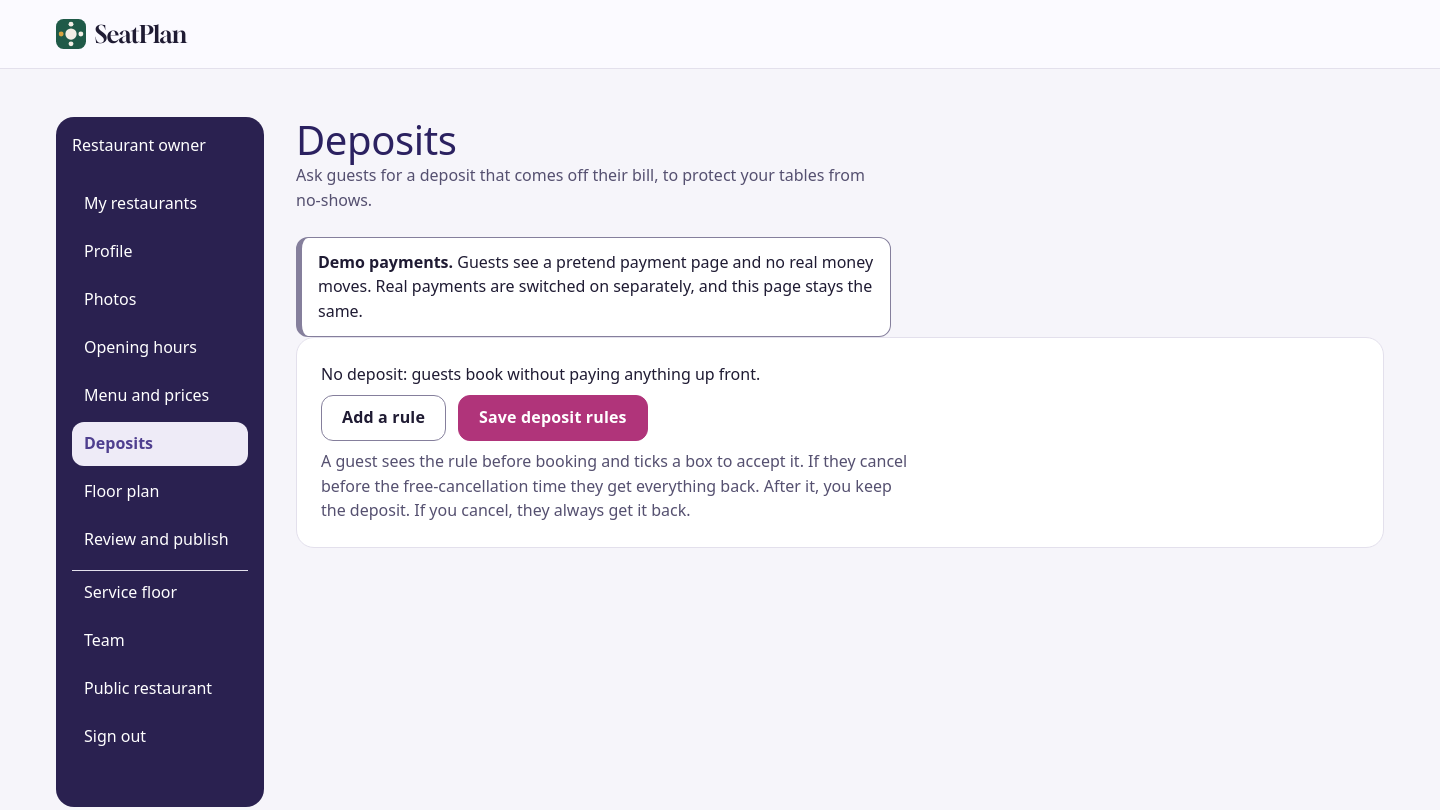
Scenario: the deposits page › shows the server's refusal
Click the button "Add a rule" at (384, 418), box [321,395,446,441]
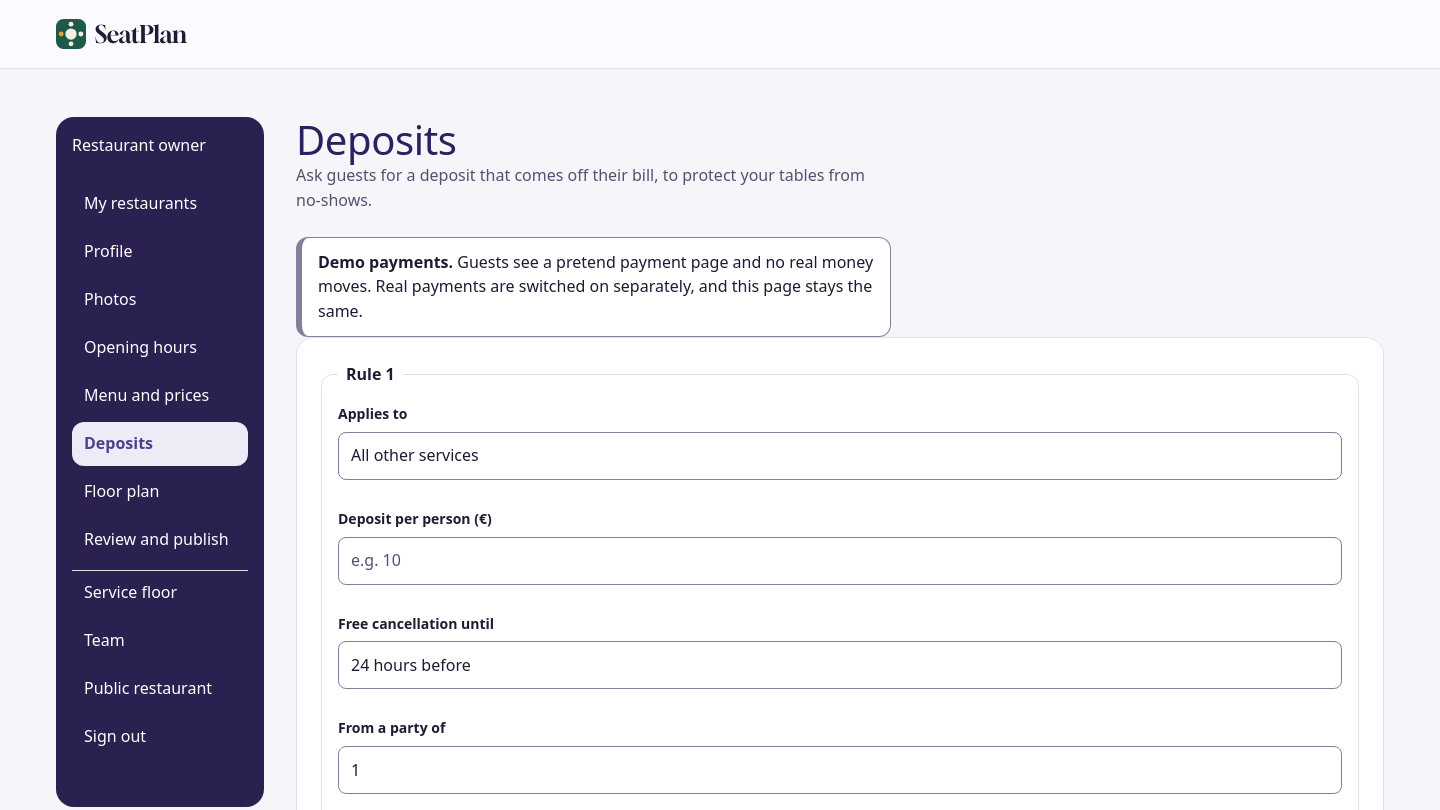
Type "10" into the field labelled "Deposit per person (€)" at (840, 560), box [338,536,1342,584]
(page scrolled)
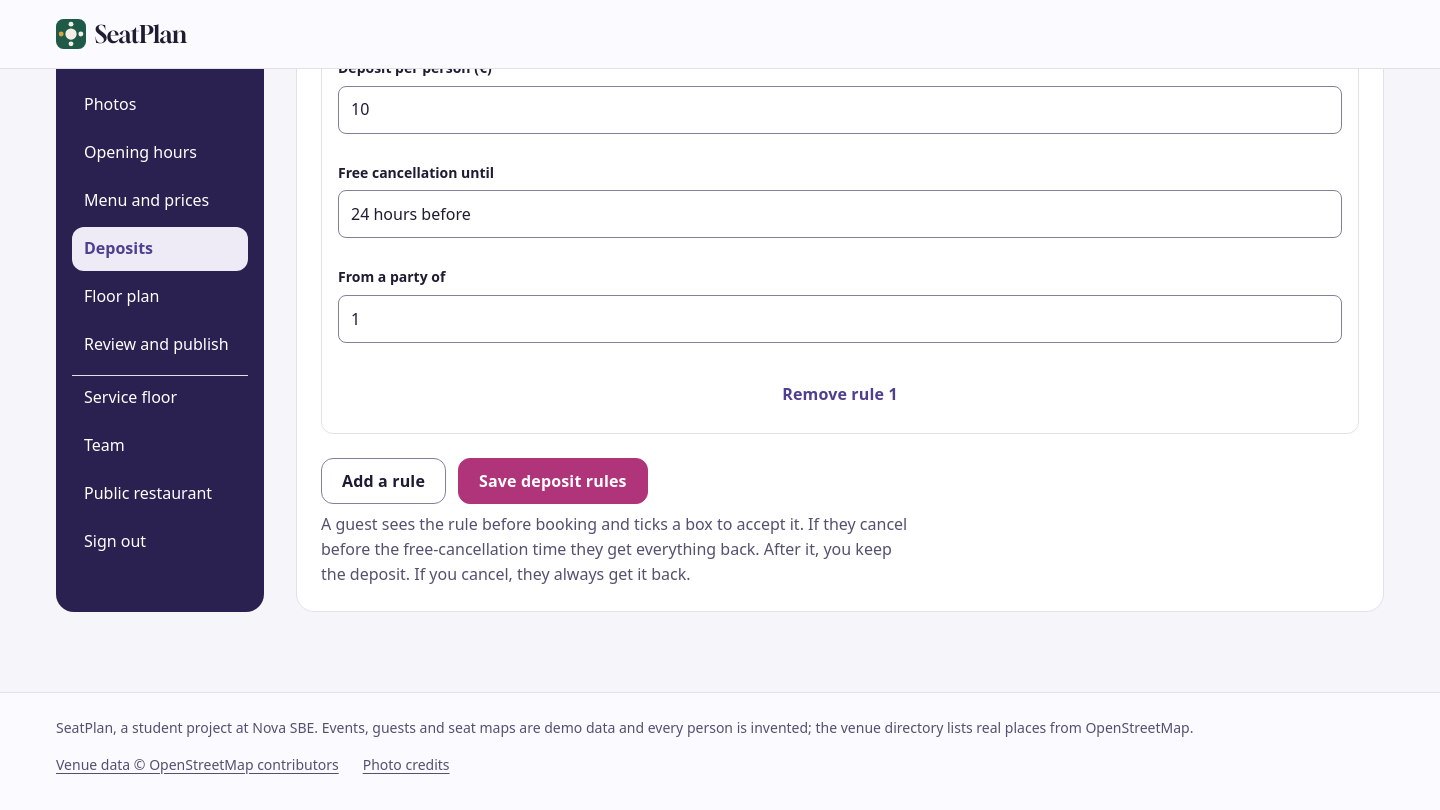
Click the button "Save deposit rules" at (553, 481), box [458,458,648,504]
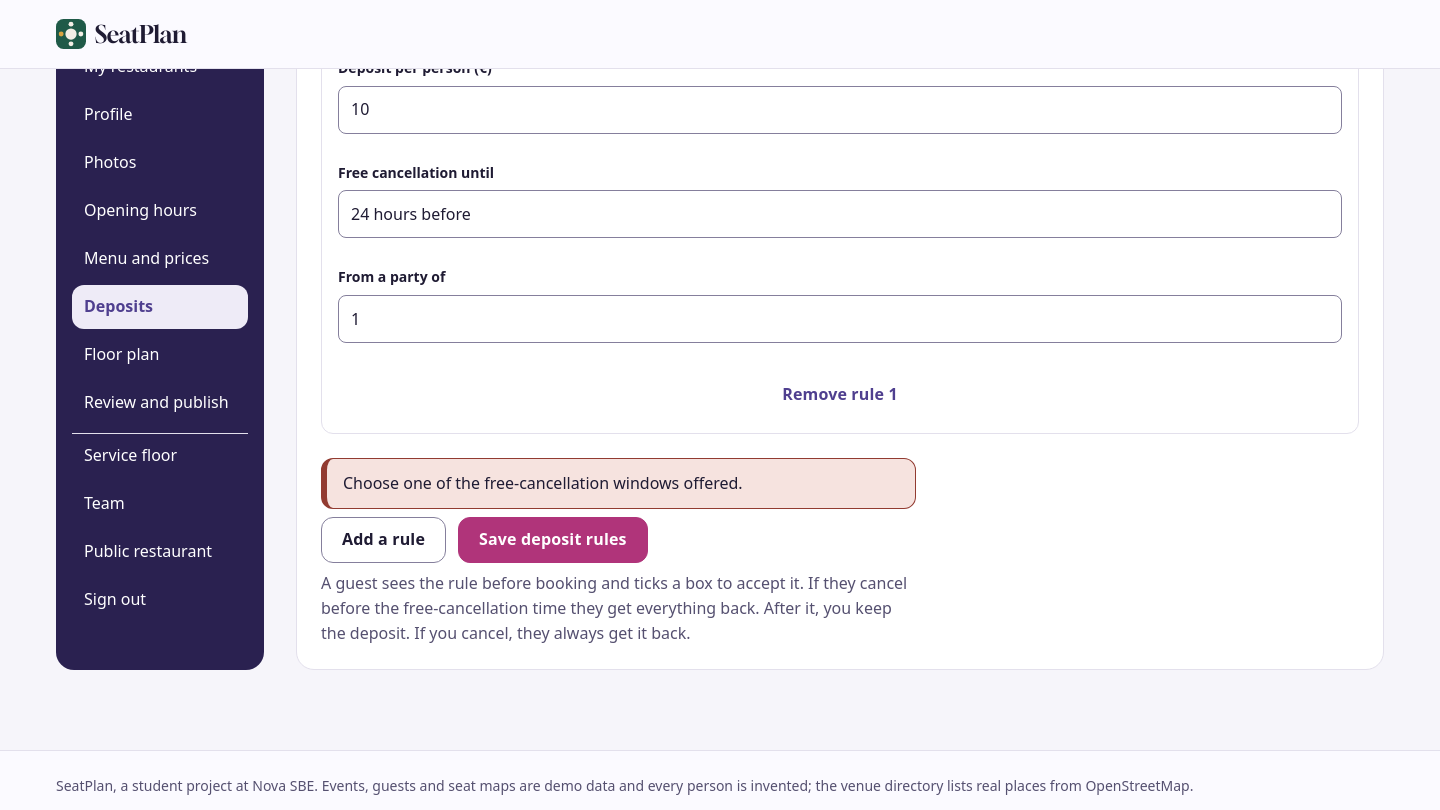
Now the text "Choose one of the free-cancellation windows offered." is shown, box [321,458,916,509]
